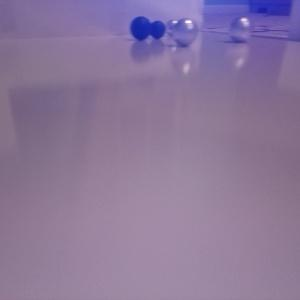alive_ball: (172, 18, 199, 47), (229, 17, 252, 42), (166, 19, 182, 37)
dead_ball: (130, 16, 152, 41), (150, 20, 166, 39)
